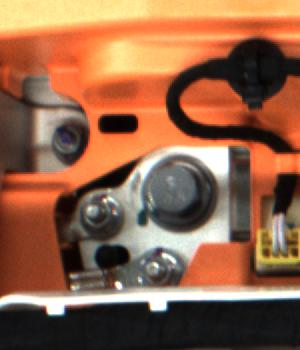nut_b: (139, 157, 221, 229)
